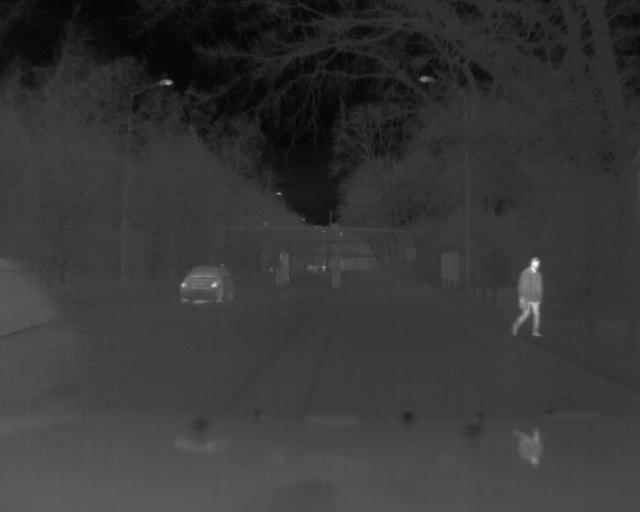car: (182, 260, 236, 311)
person: (509, 254, 548, 342)
